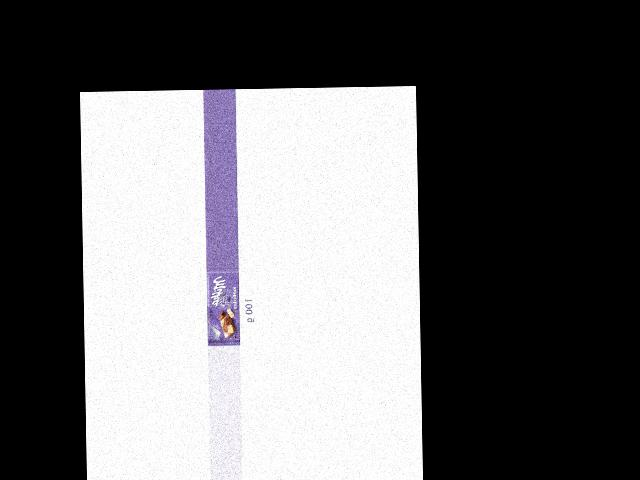chocolate: (205, 268, 245, 346)
